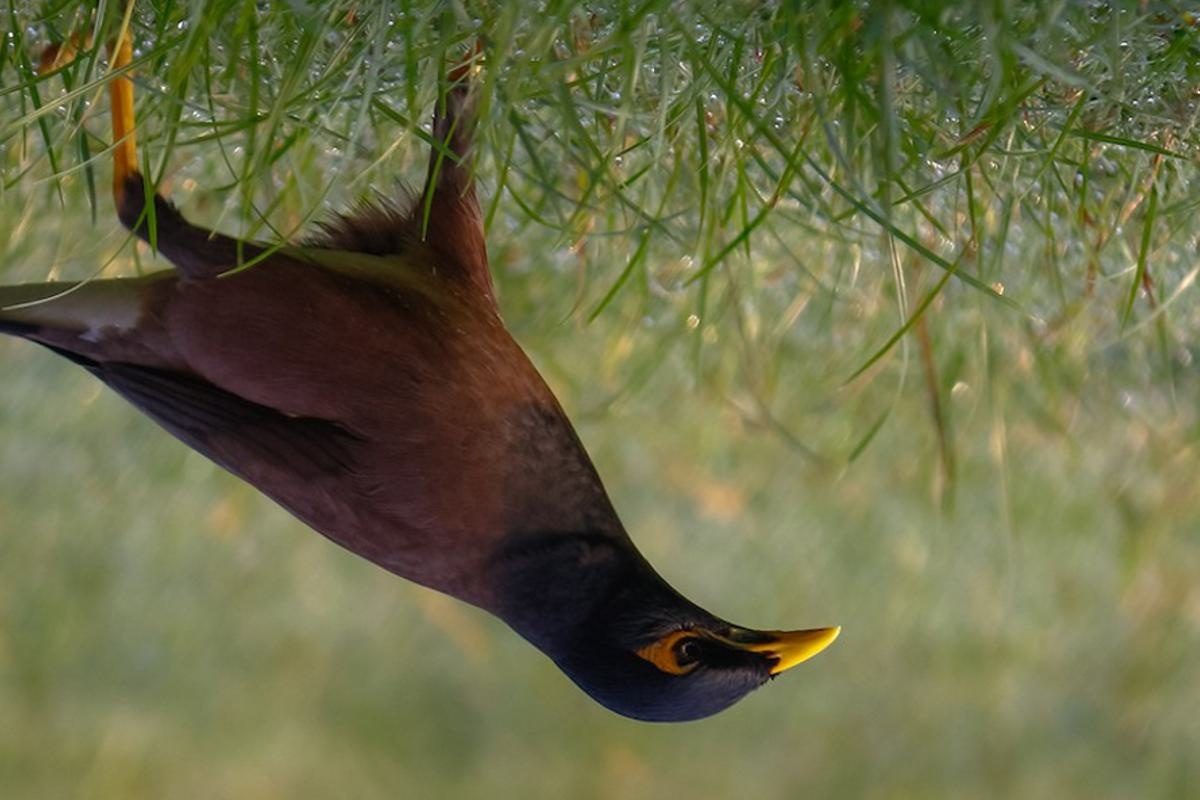myna: (1, 135, 826, 710)
